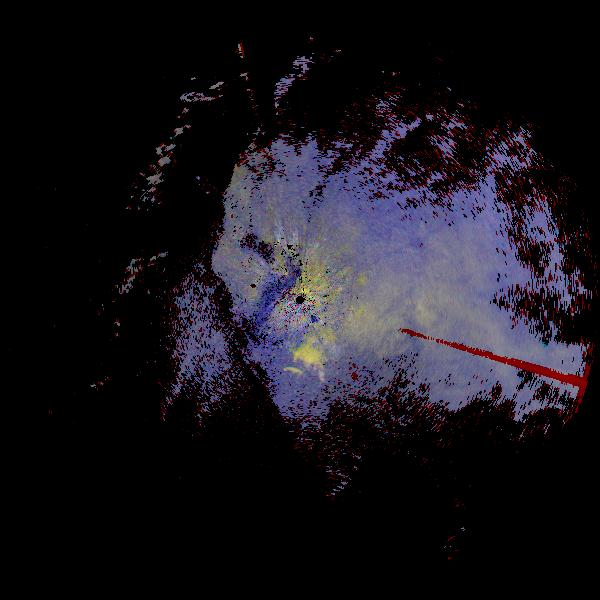roost: (269, 337, 338, 406)
